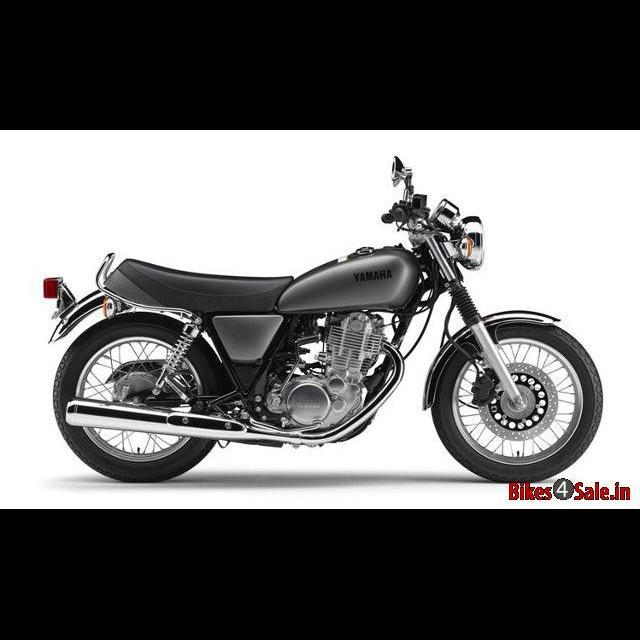motorcycle: (37, 147, 609, 489)
